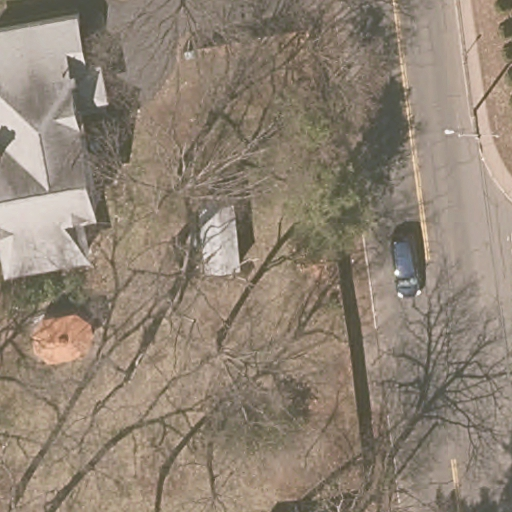DT: (444, 109, 500, 162)
